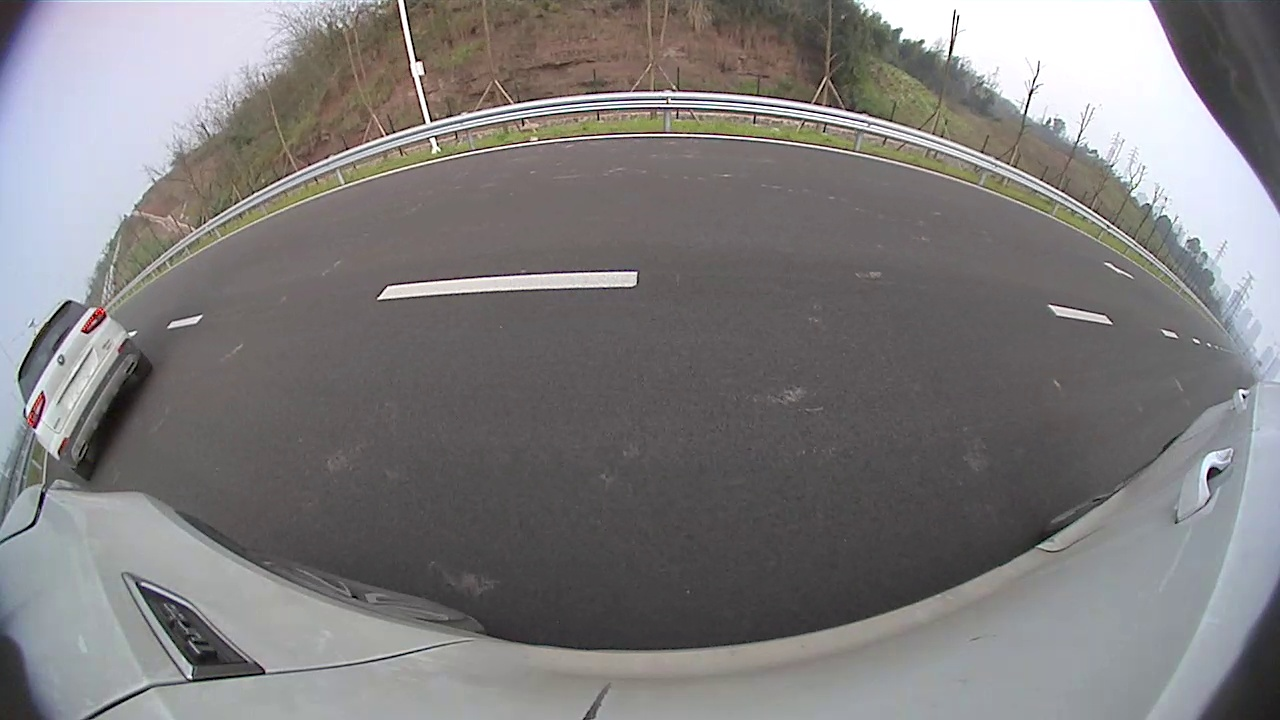car: (16, 299, 153, 483)
